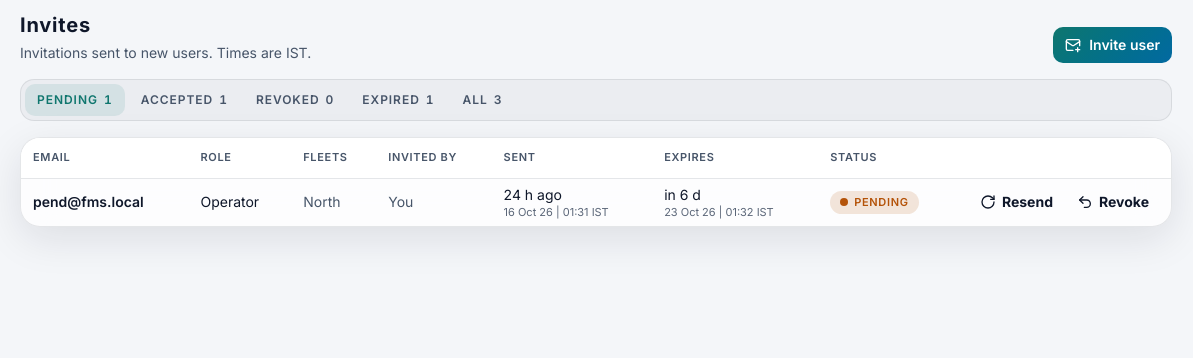
Scenario: F03-T4: Invites page (F03-R9) › shows pending by default; other statuses on filter
The image size is (1193, 358).
Check: the text "pend@fms.local" is shown, box [33,193,144,210]
Check: the text "exp@fms.local" is not shown
Click the button "All3" at (482, 100), box [450,84,514,116]
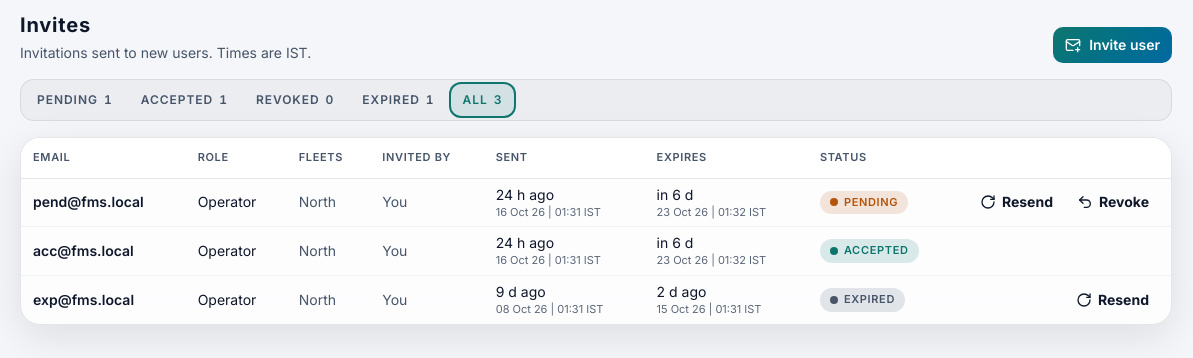
Check: the text "exp@fms.local" is shown, box [33,291,134,308]
Check: the text "acc@fms.local" is shown, box [33,242,134,259]
